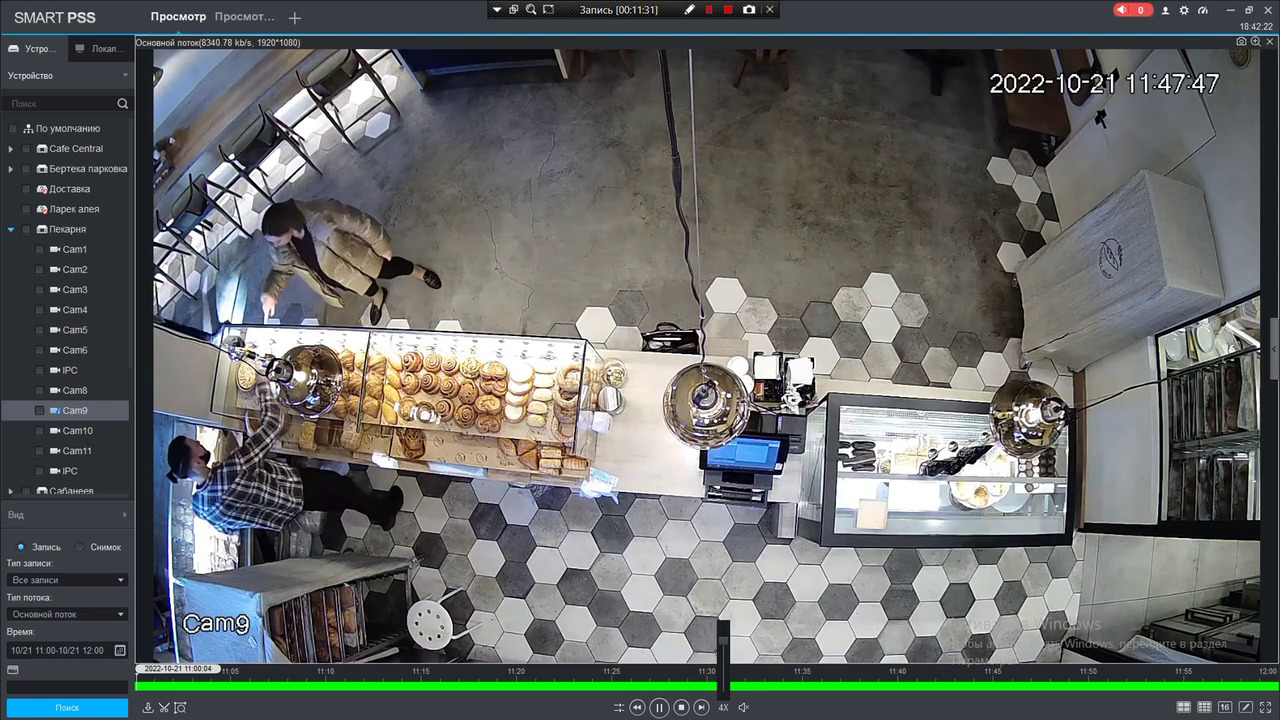barcounter: (225, 325, 1079, 532)
person: (163, 432, 410, 550), (254, 200, 425, 309)
